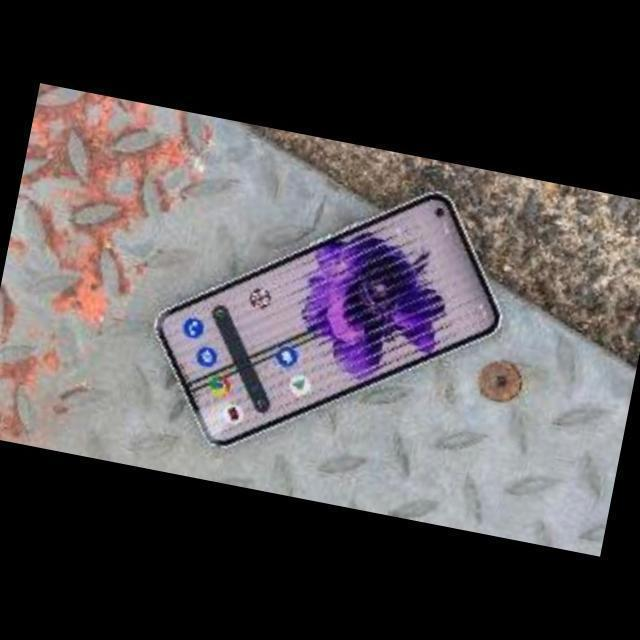phone: (129, 145, 523, 498)
